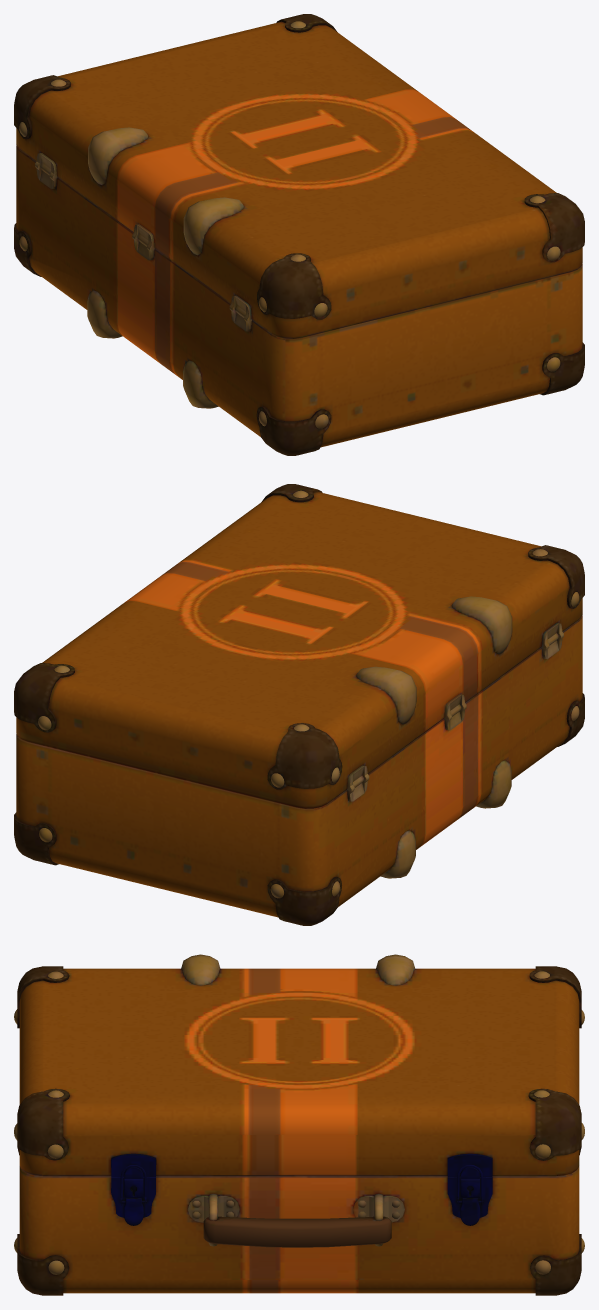
Rendered from Clothes_Case_II.glb.
3 views of the same model, one above another, from view 1: azimuth 30°, elevation 25°; view 2: azimuth 150°, elevation 25°; view 3: azimuth 270°, elevation 25° (orthographic).
Parts seen in each view (by area): view 1: Case_Cap, Case_Body; view 2: Case_Cap, Case_Body; view 3: Case_Cap, Case_Body, Case_Clip_L, Case_Clip_R.
Boxes of the visible parts, x1,y1,x2,y2 form: Case_Cap: (14,14,584,338); Case_Body: (14,145,584,455); Case_Cap: (14,484,584,808); Case_Body: (14,615,584,925); Case_Cap: (14,954,584,1178); Case_Body: (14,1123,584,1295); Case_Clip_L: (123,1198,143,1225); Case_Clip_R: (460,1198,480,1225).
Bounding box in the file's own units: 0.5352 × 0.2802 × 0.7012.
Materials: 1 (1 with a texture image).
